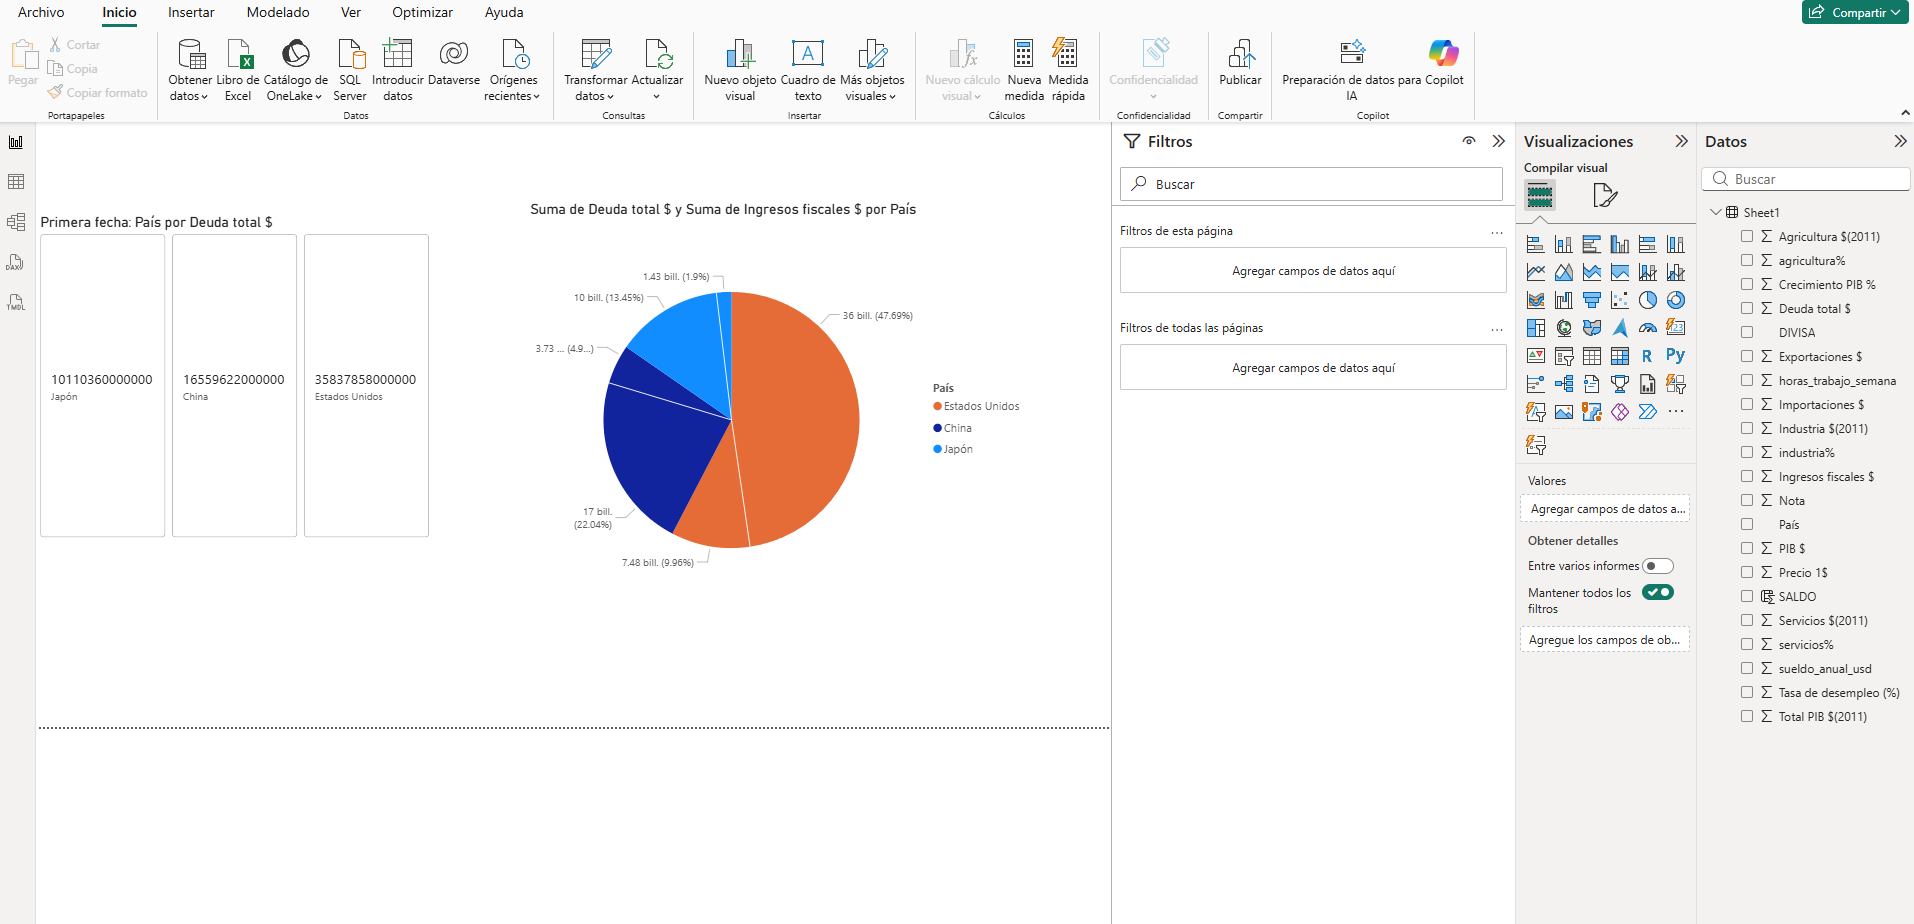

Layout of this report page (visuals, bound fields, positions):
{"tool":"powerbi","page":{"name":"Página 2","canvas":[1280,720],"ordinal":1},"visuals":[{"type":"advancedSlicerVisual","fields":{"Values":["Sheet1.Deuda total $"],"Label":["Min(Sheet1.País)"]},"box":[0,109.9,475.1,390.8],"z":0},{"type":"pieChart","fields":{"Category":["Sheet1.País"],"Y":["Sum(Sheet1.Deuda total $)","Sum(Sheet1.Ingresos fiscales $)"]},"box":[560.6,109.9,602.1,502],"z":1000}]}

Visuals, with their boxes on the page's 1280x720 design canvas (x1, y1, x2, y2). These are canvas units, not pixel positions in the 1914x924 screenshot, which may show the page scaled, cropped or inside an application window:
advancedSlicerVisual - Sheet1.Deuda total $ x Min(Sheet1.País): <box>0,110,475,501</box>
pieChart - Sheet1.País x Sum(Sheet1.Deuda total $): <box>561,110,1163,612</box>
